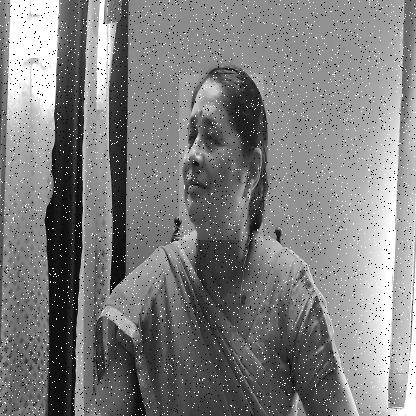Distracted: (179, 74, 263, 240)
